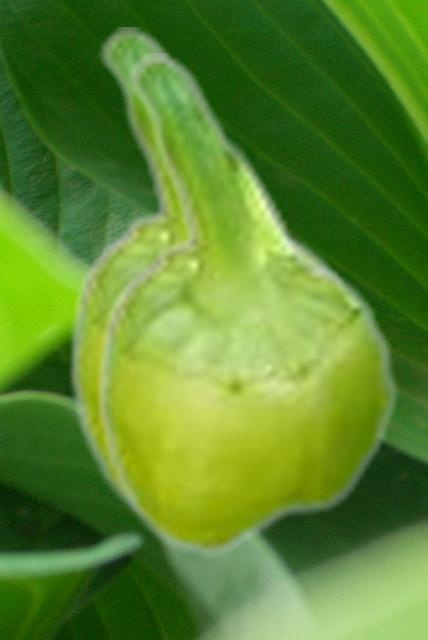bell_pepper: (94, 53, 399, 556), (66, 27, 354, 524)
